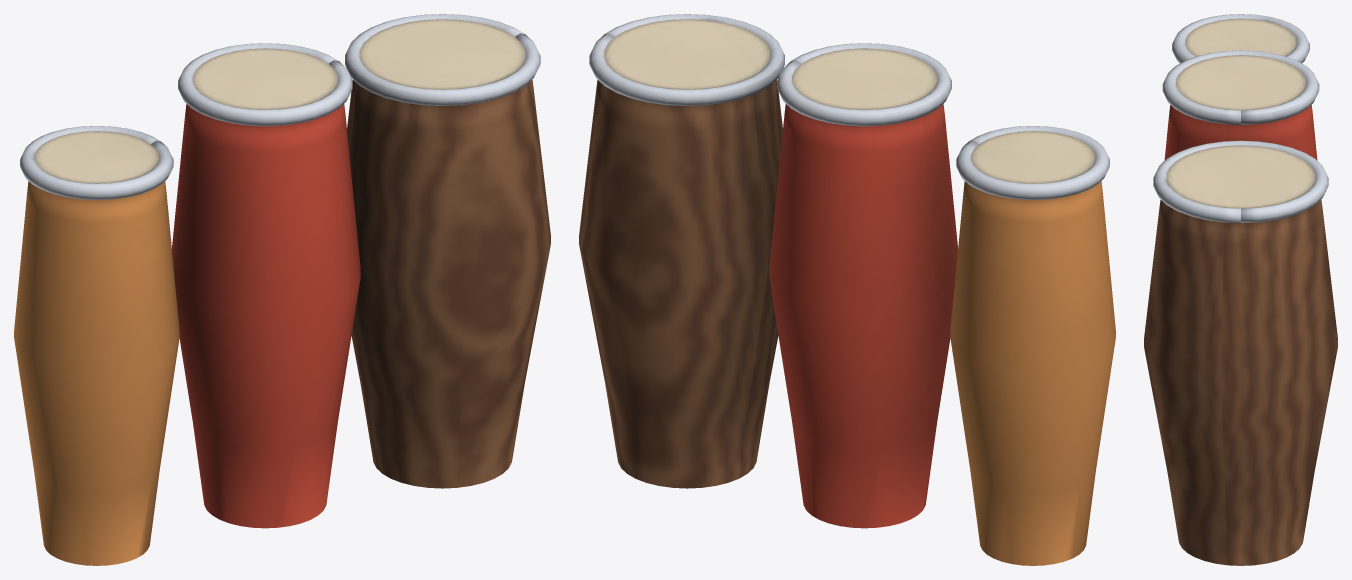
Rendered from Congas.fbx.
3 renders of one model, left to right at view 1: azimuth 30°, elevation 25°; view 2: azimuth 150°, elevation 25°; view 3: azimuth 270°, elevation 25°, orthographic. The views are drawn at different scales.
Visible parts, largest first — view 1: Pad_65_Mesh, Pad_64_Mesh, Pad_63_Mesh; view 2: Pad_65_Mesh, Pad_64_Mesh, Pad_63_Mesh; view 3: Pad_65_Mesh, Pad_64_Mesh, Pad_63_Mesh.
Boxes of the visible parts, box(x1,y1,x2,y2) form: Pad_65_Mesh: box(345, 14, 550, 488); Pad_64_Mesh: box(172, 43, 360, 528); Pad_63_Mesh: box(14, 126, 179, 565); Pad_65_Mesh: box(579, 14, 784, 488); Pad_64_Mesh: box(769, 43, 957, 528); Pad_63_Mesh: box(950, 126, 1115, 565); Pad_65_Mesh: box(1144, 140, 1337, 565); Pad_64_Mesh: box(1162, 50, 1319, 160); Pad_63_Mesh: box(1172, 14, 1309, 63).
Size of the model in its own units: 1.15 by 0.917 by 0.4227.
